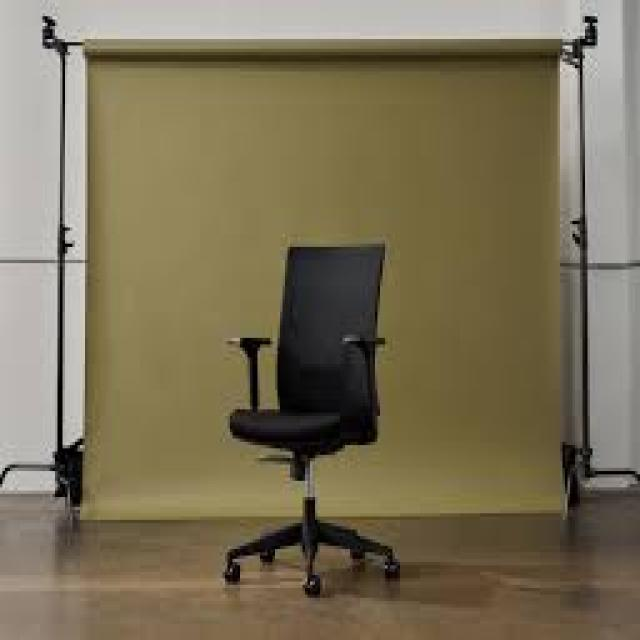chair: (178, 207, 469, 629)
